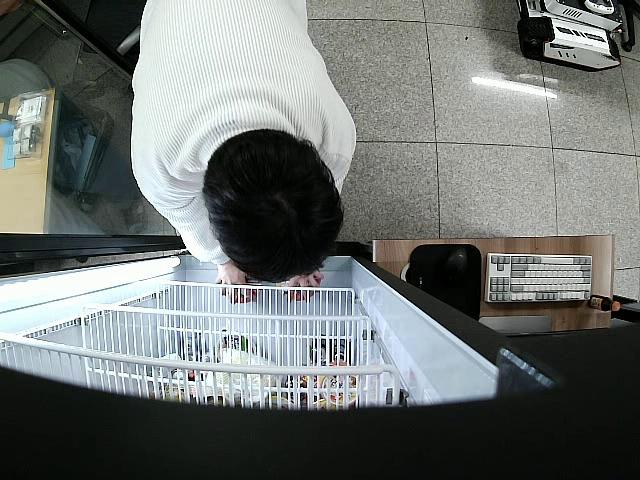00_hand: (215, 266, 252, 303), (283, 272, 324, 299)
